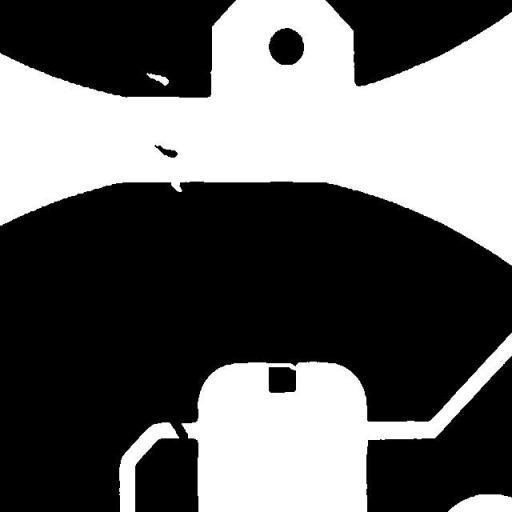copper: (146, 137, 185, 165)
mousebite: (163, 171, 190, 199)
open: (258, 355, 304, 378)
pin-hole: (138, 65, 176, 93)
short: (162, 411, 196, 448)
